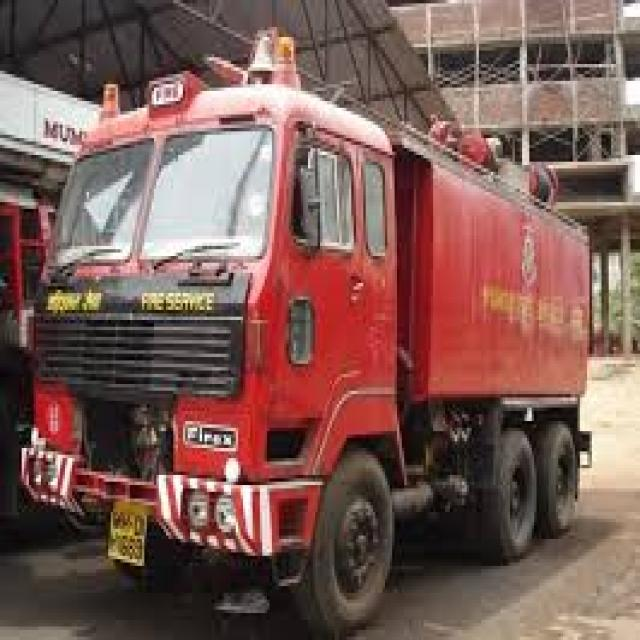Fire_brigade: (48, 54, 599, 606)
